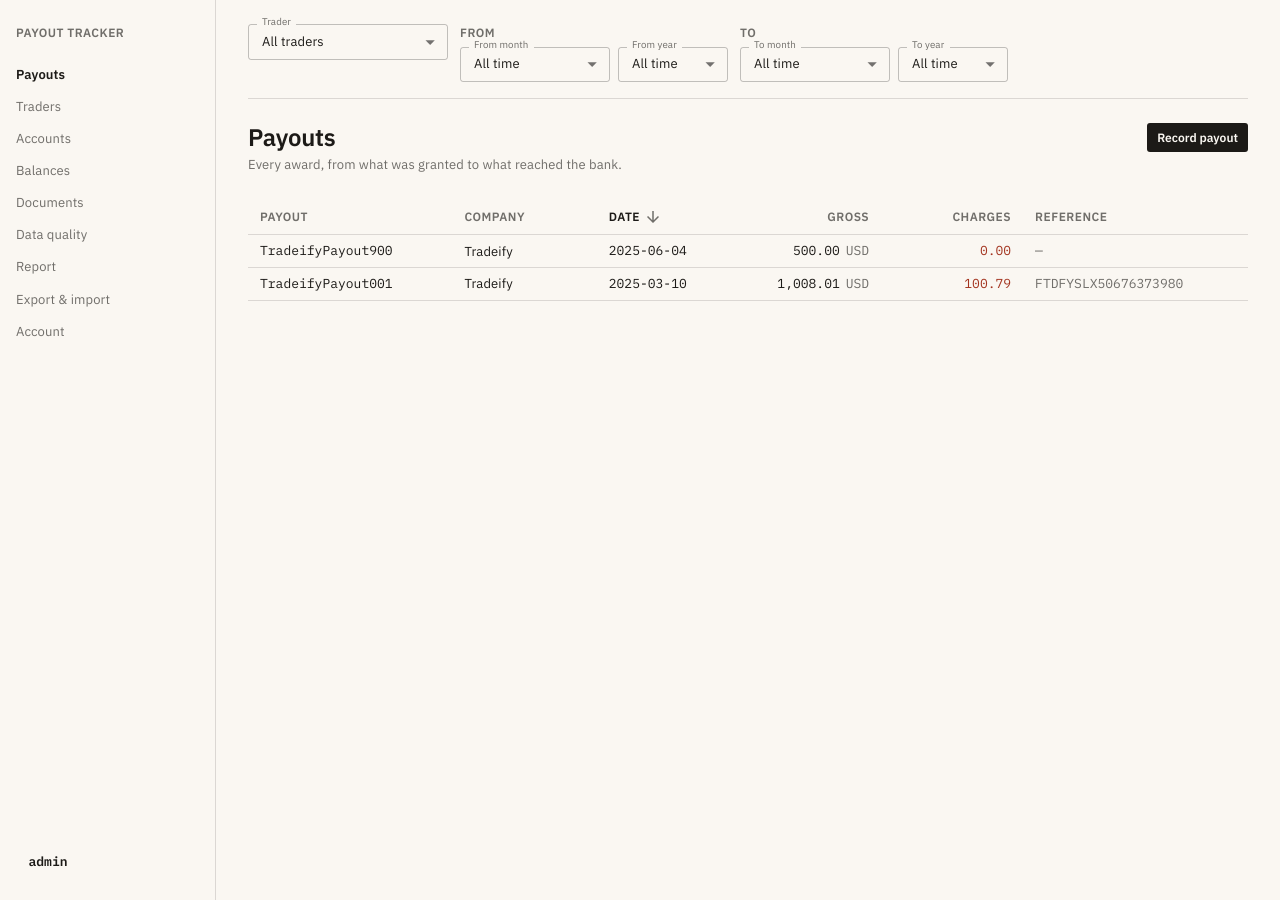
the scope bar › narrows the list to the chosen trader
expect the text "TradeifyPayout001" is shown: met, box [260,275,393,292]
Click the dropdown labelled "All traders": (293, 41) [262,32,324,50]
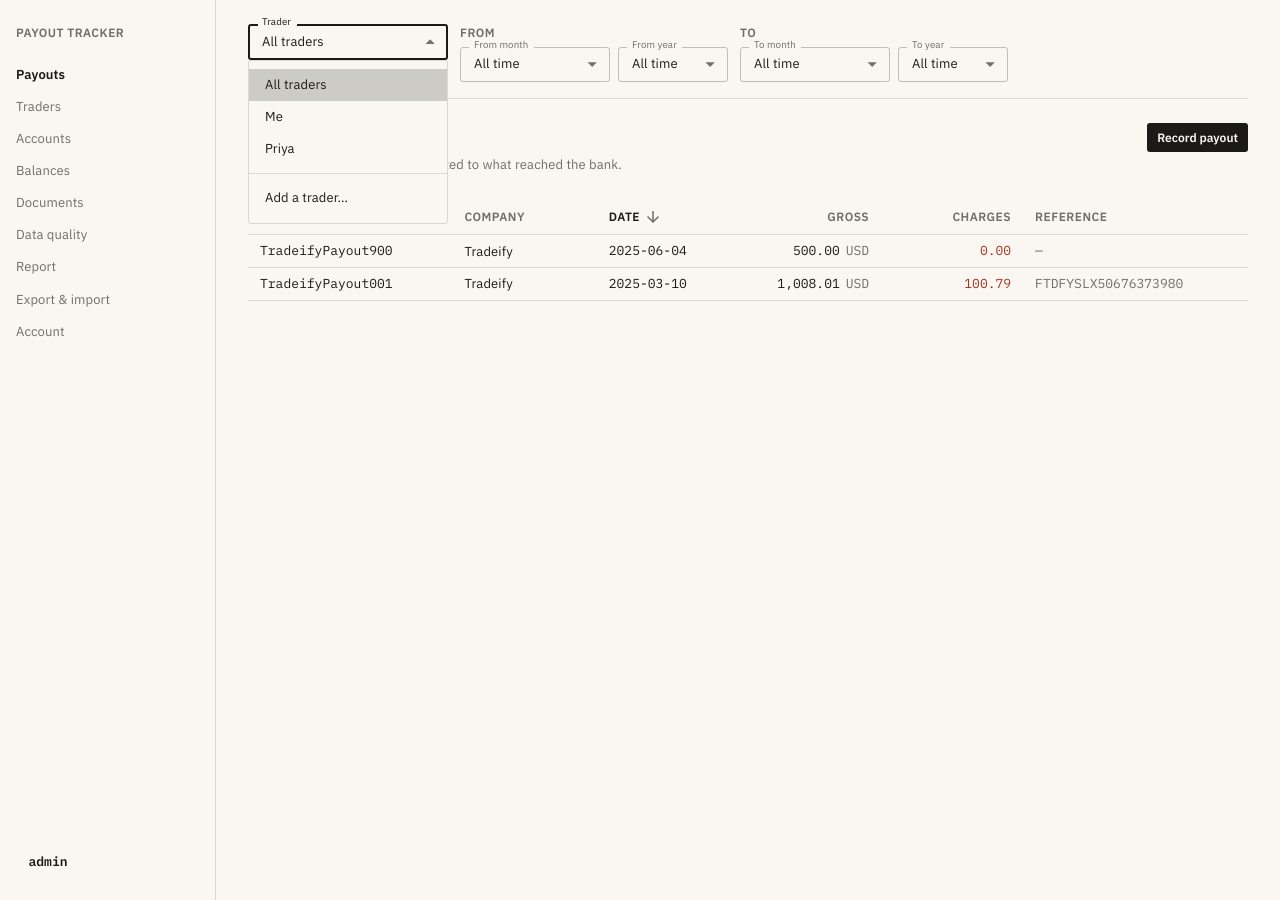
Click the option "Priya": (280, 149) [265,140,295,157]
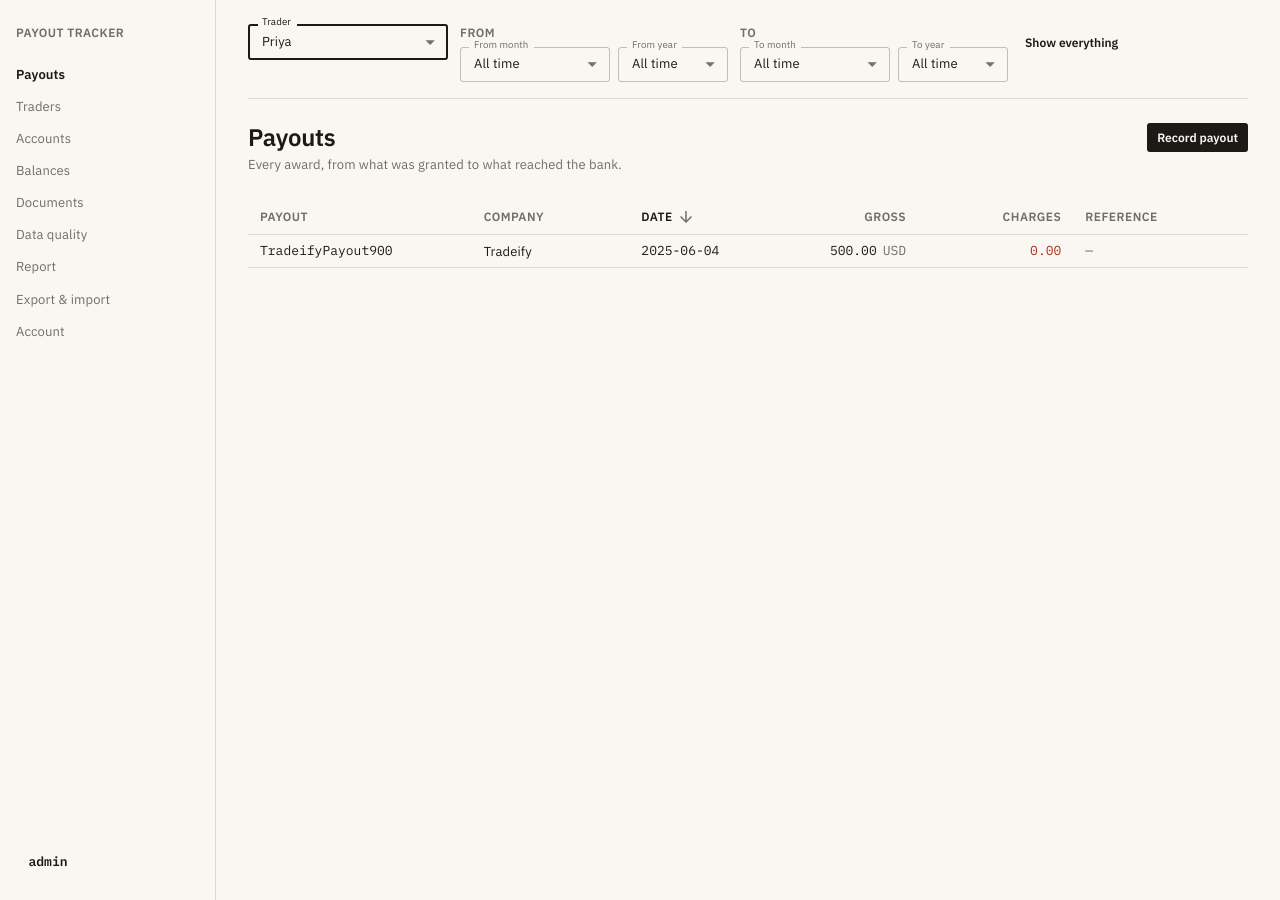
expect the text "TradeifyPayout900" is shown: met, box [260,242,393,259]
expect the text "TradeifyPayout001" is gone: met
